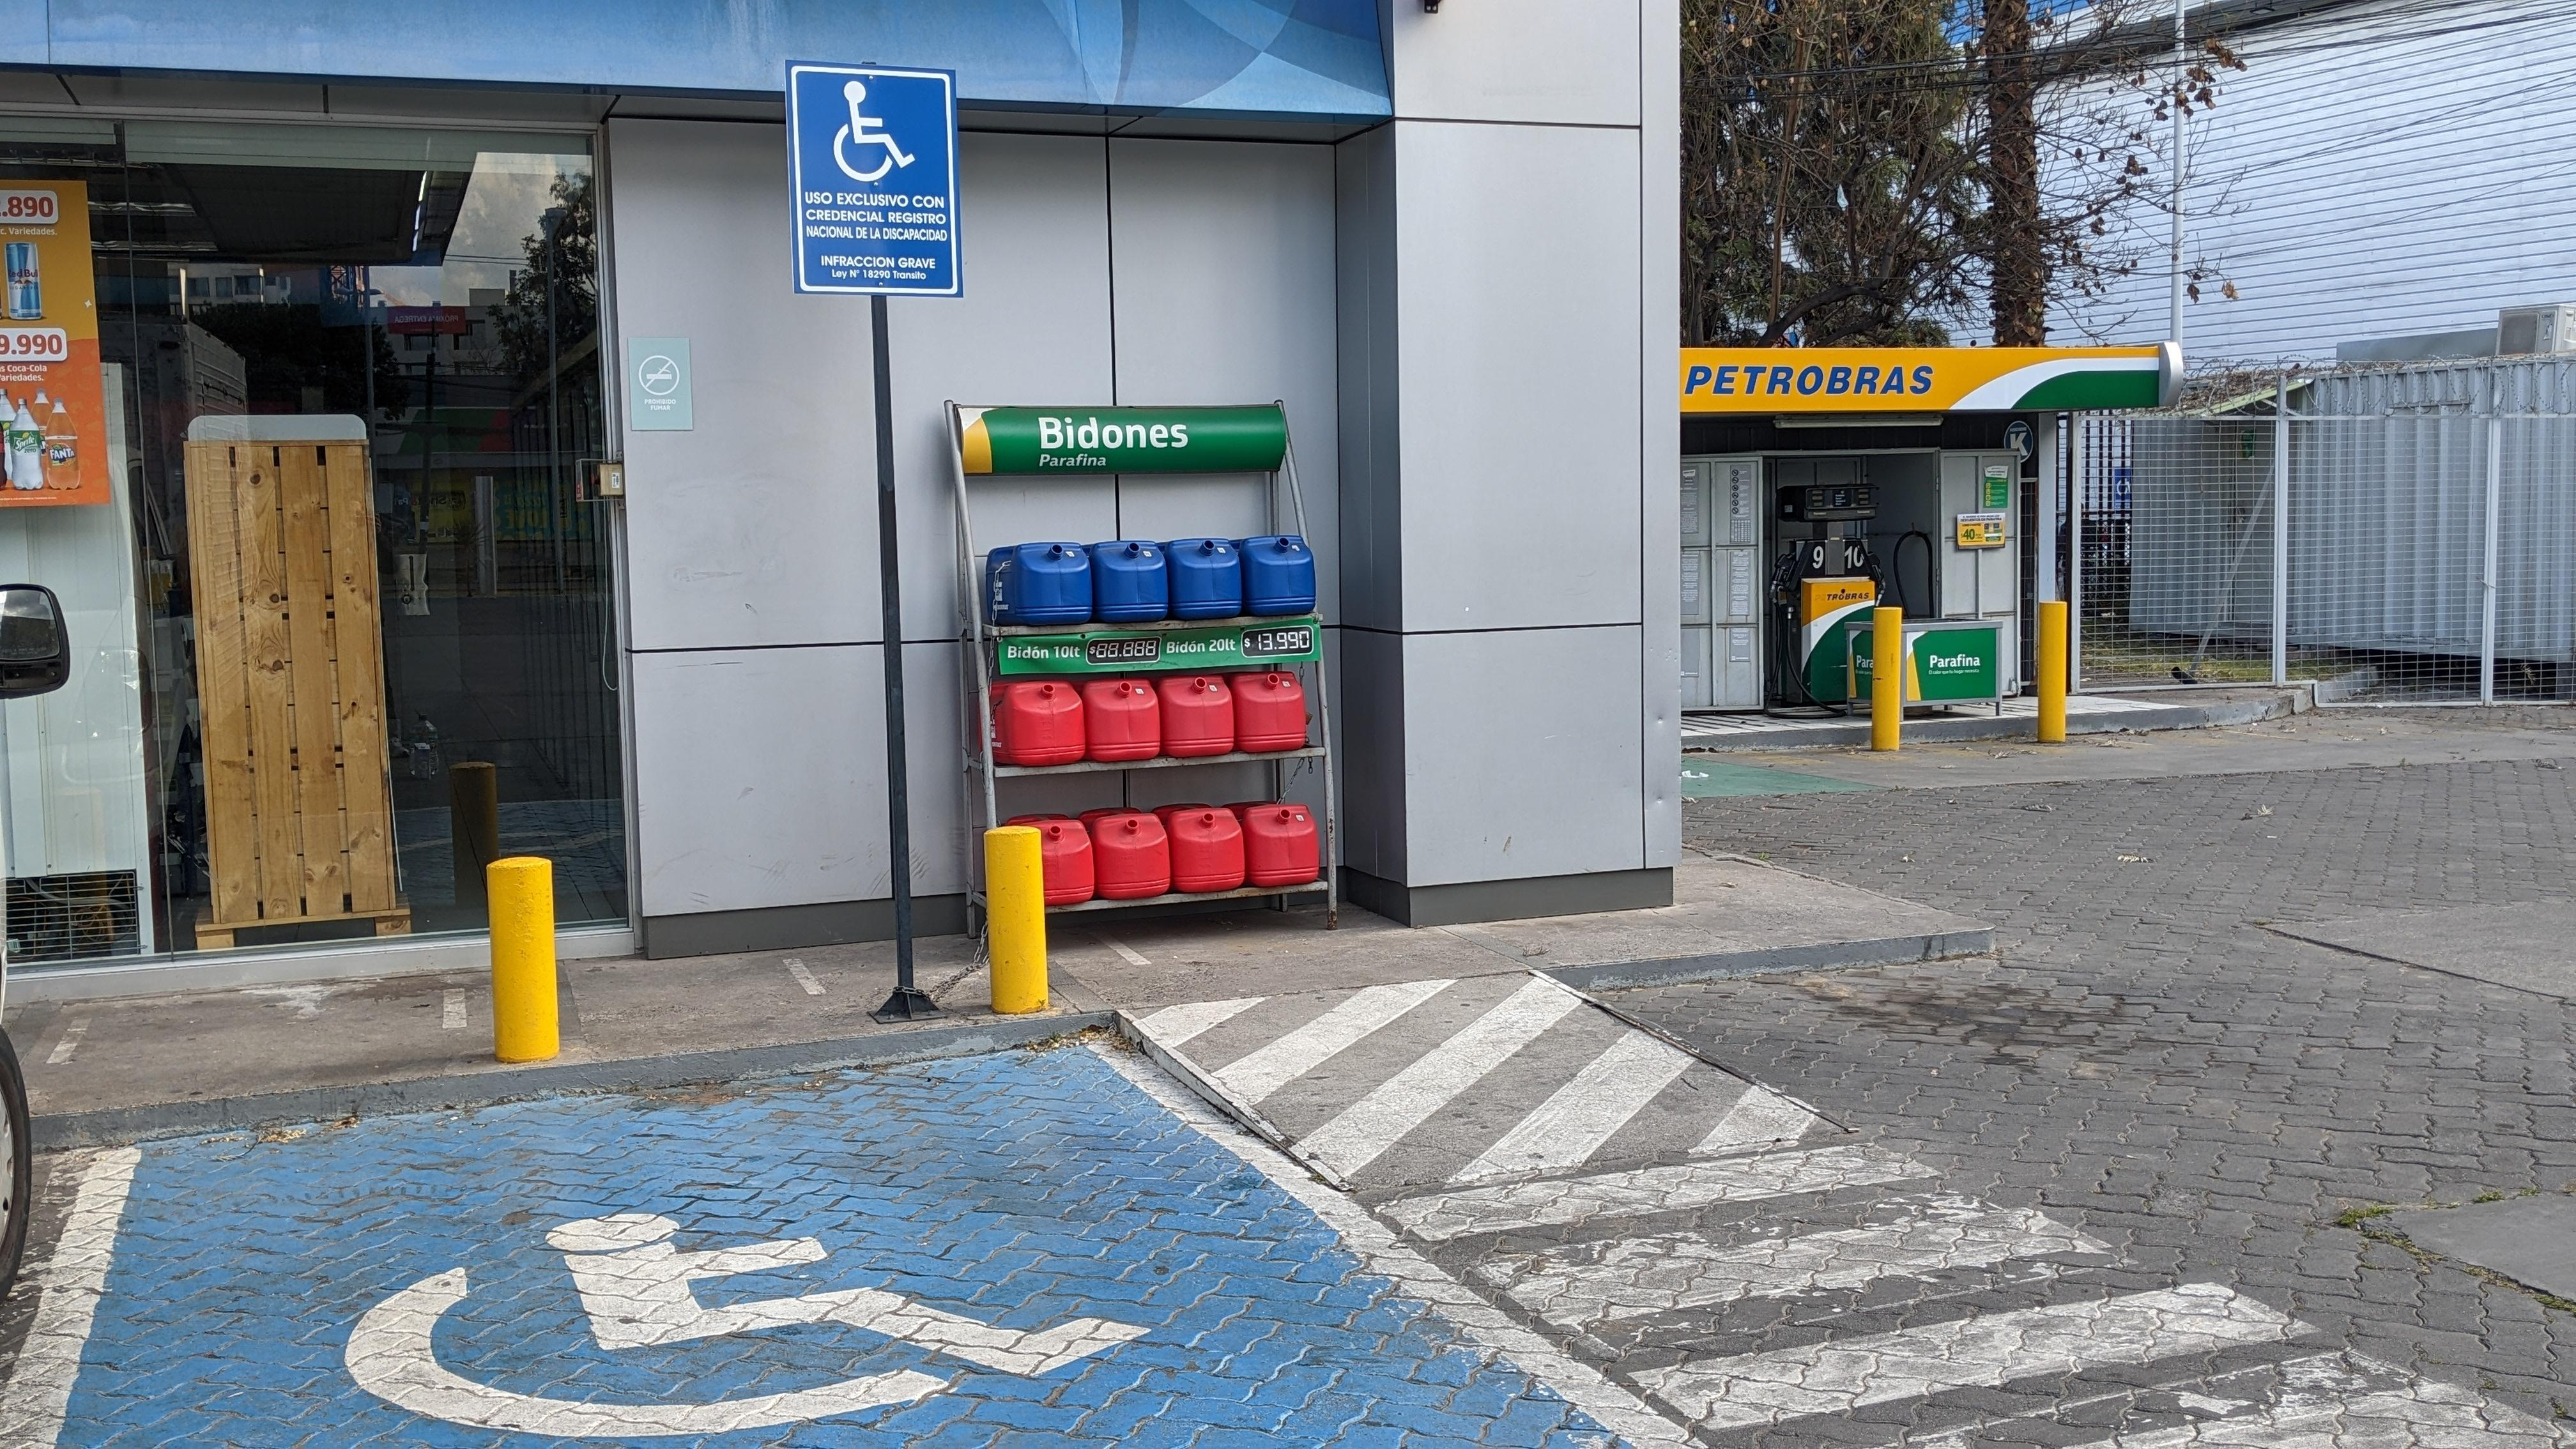handicapped symbol: (341, 1210, 1155, 1442), (832, 80, 916, 184)
